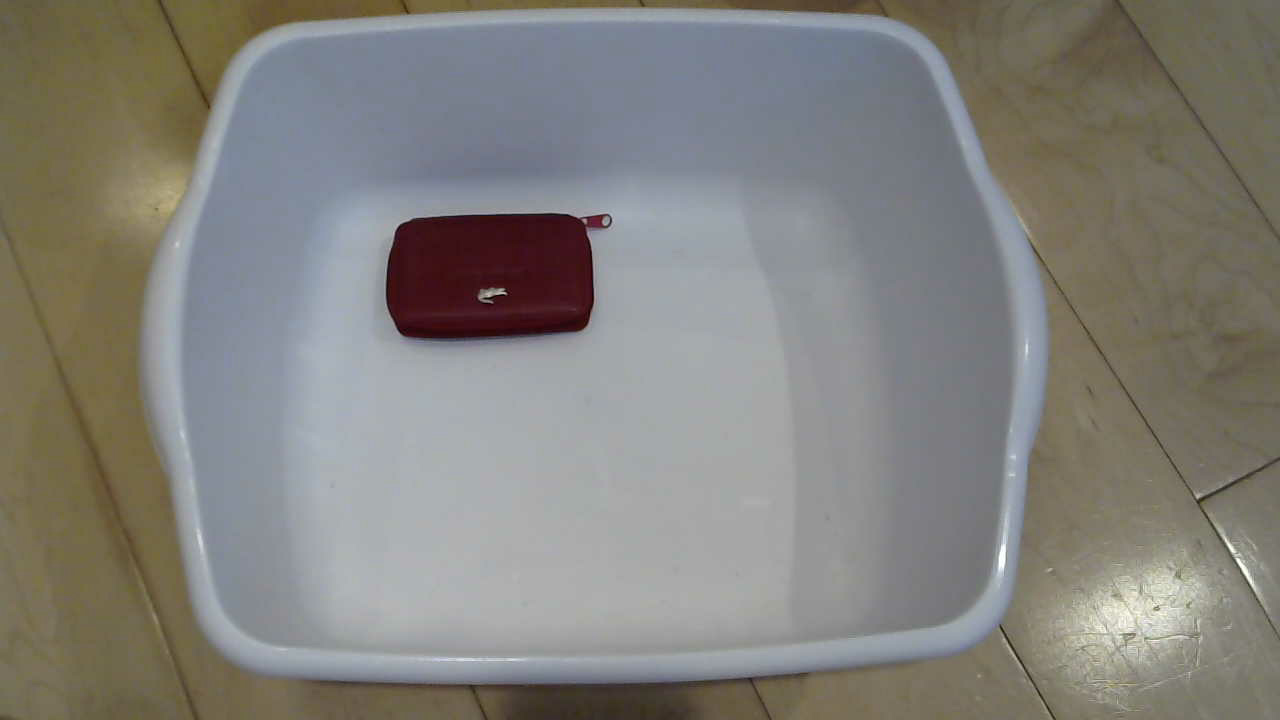wallet: (375, 191, 632, 357)
